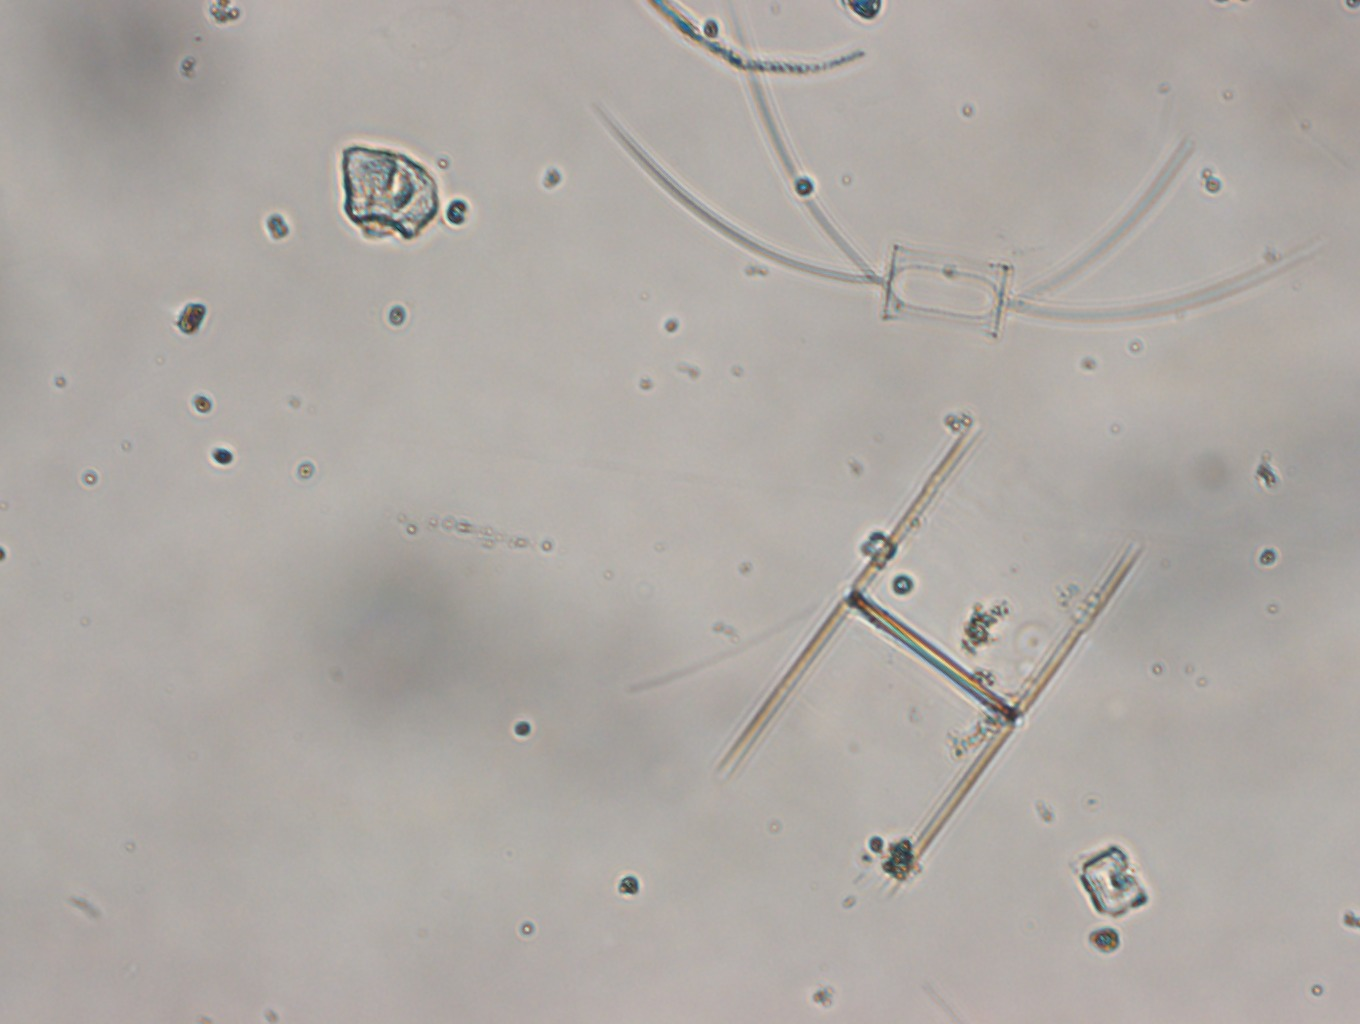chaetoceros: (599, 3, 1297, 338)
guinardia flaccida: (721, 441, 1135, 873)
